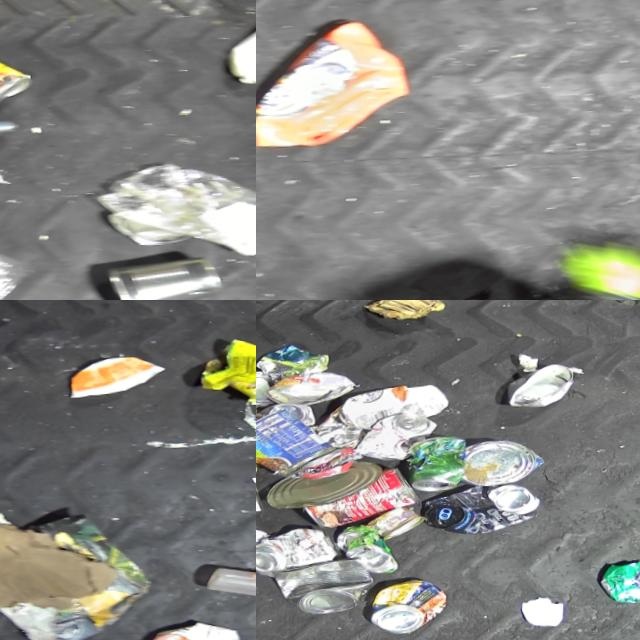can: (302, 463, 421, 536), (424, 482, 542, 545), (270, 554, 376, 621), (266, 457, 382, 515), (256, 404, 338, 485), (98, 257, 233, 300), (369, 578, 448, 640), (256, 523, 339, 582), (354, 413, 438, 469), (463, 440, 546, 494), (264, 370, 357, 412), (405, 439, 468, 499), (508, 365, 579, 417), (334, 525, 401, 579), (0, 49, 36, 117), (367, 506, 425, 547), (599, 562, 640, 615), (258, 402, 317, 430), (256, 368, 277, 410)
non_white_jug: (256, 13, 417, 161)
